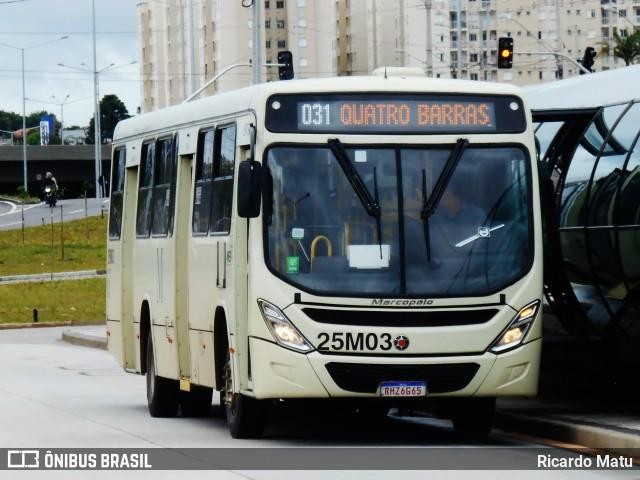QUATRO BARRAS: (336, 99, 493, 128)
